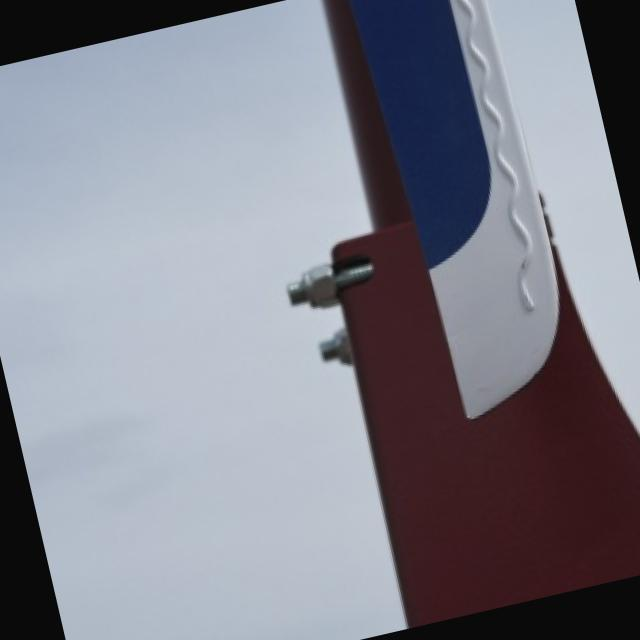healthy: (293, 0, 640, 625), (352, 0, 560, 415)
